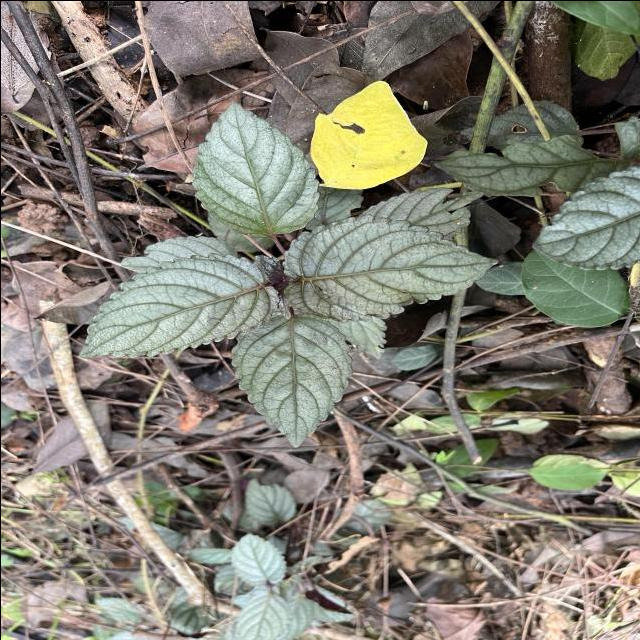Hemigraphis colorata: (280, 212, 500, 325), (74, 250, 280, 360), (190, 100, 320, 238), (229, 312, 355, 448), (527, 163, 640, 272)
